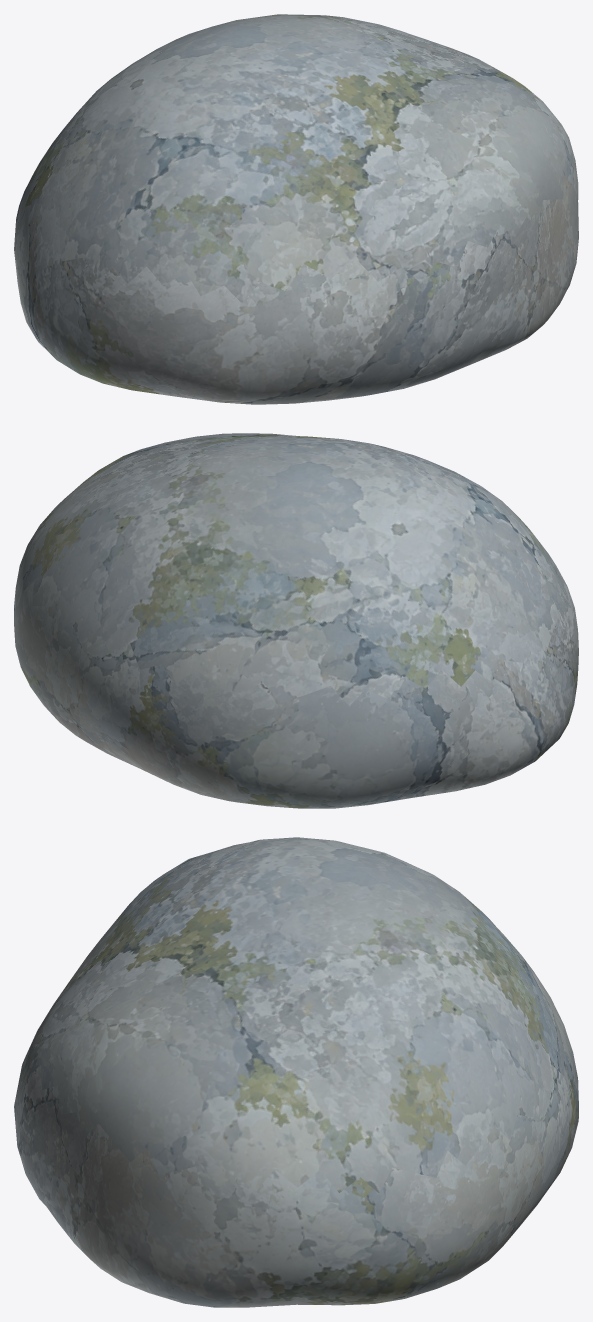
Rendered from SM_SmoothForestRock_02.fbx.
3 views of the same model, one above another, from view 1: azimuth 30°, elevation 25°; view 2: azimuth 150°, elevation 25°; view 3: azimuth 270°, elevation 25° (orthographic). The views are drawn at different scales.
Parts seen in each view (by area): view 1: SM_SmoothForestRock_02; view 2: SM_SmoothForestRock_02; view 3: SM_SmoothForestRock_02.
Boxes of the visible parts, x1,y1,x2,y2 form: SM_SmoothForestRock_02: (14, 14, 578, 404); SM_SmoothForestRock_02: (14, 433, 578, 808); SM_SmoothForestRock_02: (14, 837, 578, 1307).
Bounding box in the file's own units: 2.91 × 2.43 × 1.51.
